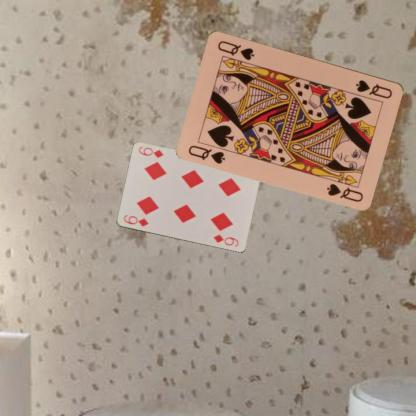6d: (121, 213, 150, 228)
Qs: (353, 77, 394, 100), (186, 142, 227, 165)
